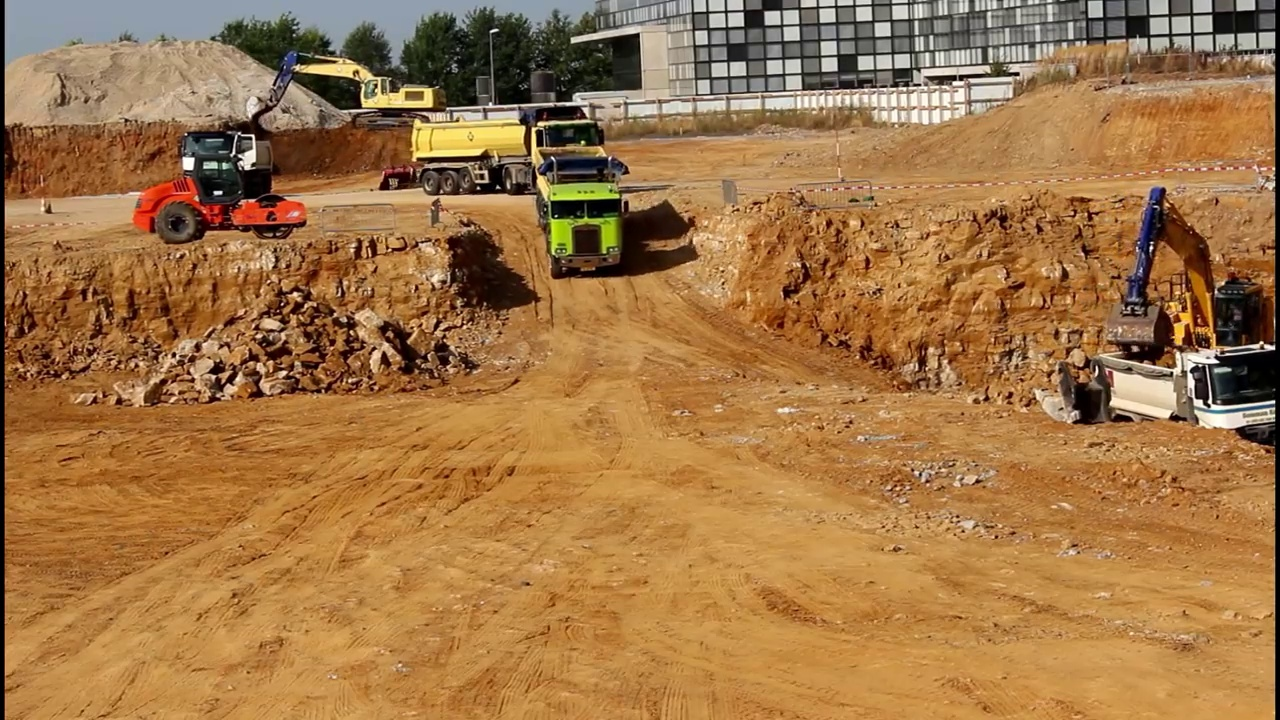compactor: (129, 151, 309, 241)
excavator: (1092, 179, 1280, 410), (240, 44, 452, 131)
truck: (1088, 336, 1280, 467), (408, 102, 626, 189), (535, 144, 637, 285), (178, 121, 278, 209)
